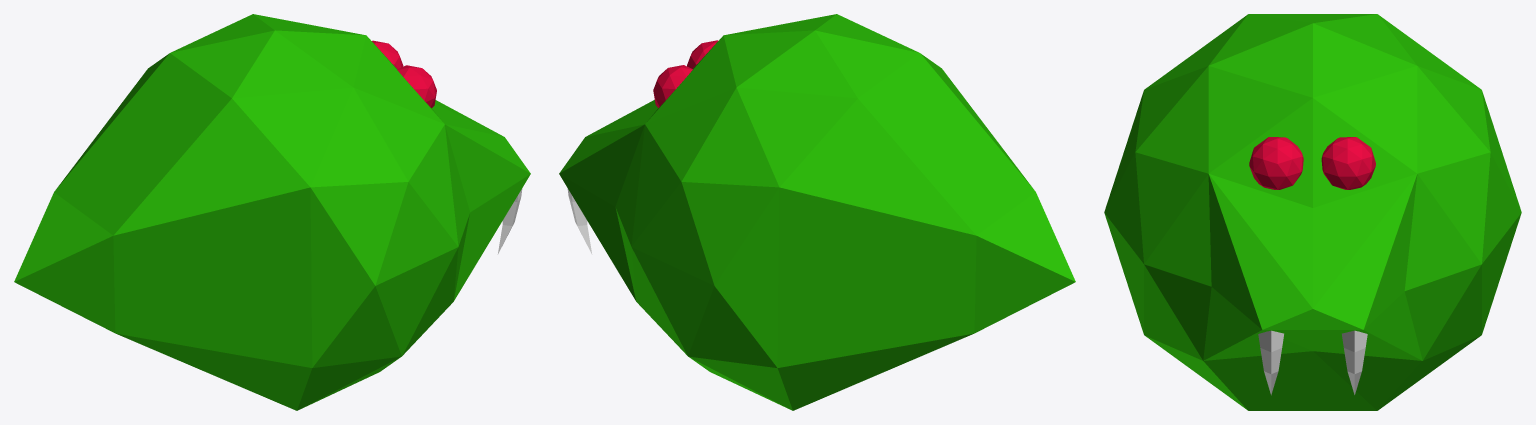
The model's file is SnakeHead.fbx.
3 views of the same model, side by side, from view 1: azimuth 30°, elevation 25°; view 2: azimuth 150°, elevation 25°; view 3: azimuth 270°, elevation 25° (orthographic). The views are drawn at different scales.
Visible parts, largest first — view 1: ToothT; view 2: ToothT; view 3: ToothT.
Boxes of the visible parts, left/top/right/bottom form: ToothT: left=14, top=14, right=530, bottom=410; ToothT: left=559, top=14, right=1075, bottom=410; ToothT: left=1104, top=14, right=1521, bottom=410.
Size of the model in its own units: 200 by 283 by 185.
